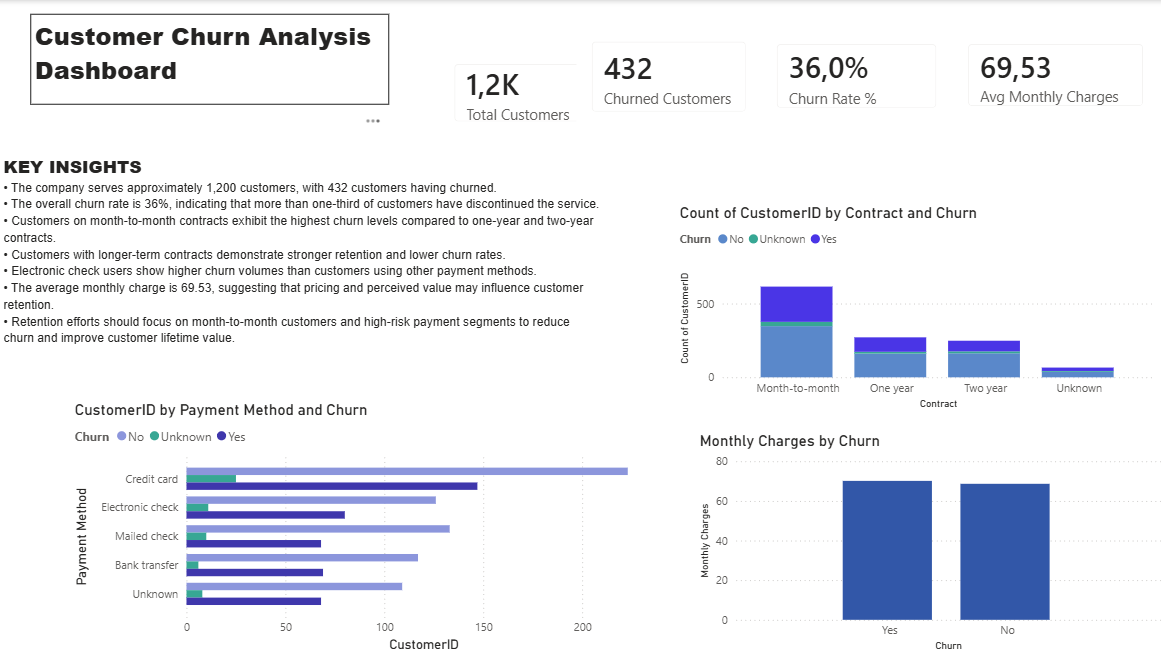

The page's visual inventory and layout, read from the dashboard file:
{"tool":"powerbi","page":{"name":"Page 1","canvas":[1280,720],"ordinal":0},"visuals":[{"type":"cardVisual","fields":{"Data":["CountNonNull(Sheet1.CustomerID)"]},"box":[9.6,0,279.9,192.1],"z":0},{"type":"cardVisual","fields":{"Data":["Sheet1.Churned Customers"]},"box":[260.7,27.4,279.9,164.7],"z":1000},{"type":"cardVisual","fields":{"Data":["Sheet1.Churn Rate %"]},"box":[499.5,31.6,279.9,160.5],"z":2000},{"type":"cardVisual","fields":{"Data":["Avg(Sheet1.MonthlyCharges)"]},"box":[754.7,32.9,279.9,160.5],"z":3000},{"type":"columnChart","fields":{"Category":["Sheet1.Contract"],"Y":["CountNonNull(Sheet1.CustomerID)"],"Series":["Sheet1.Churn"]},"box":[24.7,175.6,531,230.5],"z":4000},{"type":"clusteredBarChart","fields":{"Category":["Sheet1.PaymentMethod"],"Y":["CountNonNull(Sheet1.CustomerID)"],"Series":["Sheet1.Churn"]},"box":[78.2,439.1,664.2,281.3],"z":5000},{"type":"clusteredColumnChart","fields":{"Category":["Sheet1.Churn"],"Y":["Avg(Sheet1.MonthlyCharges)"]},"box":[698.5,192.1,516,247],"z":6000}]}

Visuals, with their boxes in screenshot pixels (x1, y1, x2, y2), scaled from the page's 1280x720 canvas onto the 1161x655 screenshot:
cardVisual - CountNonNull(Sheet1.CustomerID): 9/0/263/175
cardVisual - Sheet1.Churned Customers: 236/25/490/175
cardVisual - Sheet1.Churn Rate %: 453/29/707/175
cardVisual - Avg(Sheet1.MonthlyCharges): 685/30/938/176
columnChart - Sheet1.Contract x CountNonNull(Sheet1.CustomerID): 22/160/504/369
clusteredBarChart - Sheet1.PaymentMethod x CountNonNull(Sheet1.CustomerID): 71/399/673/654
clusteredColumnChart - Sheet1.Churn x Avg(Sheet1.MonthlyCharges): 634/175/1102/399
